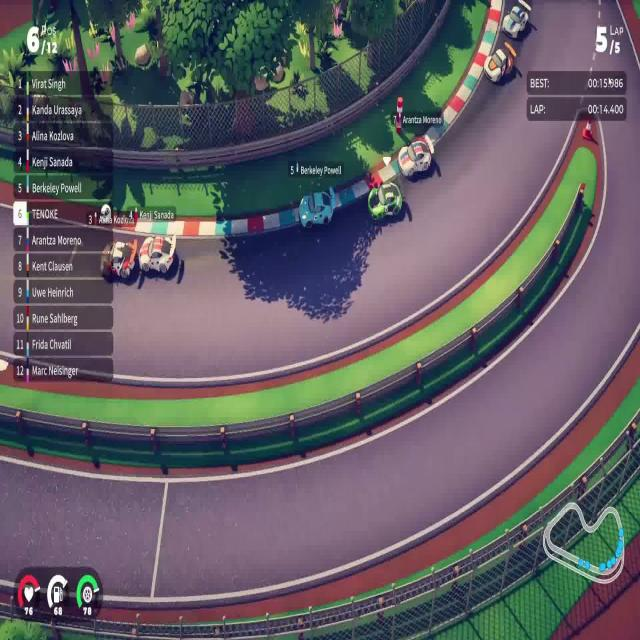car: (99, 236, 138, 281), (138, 232, 177, 276), (367, 179, 403, 223), (298, 188, 335, 229), (397, 138, 433, 180), (484, 41, 516, 84)
